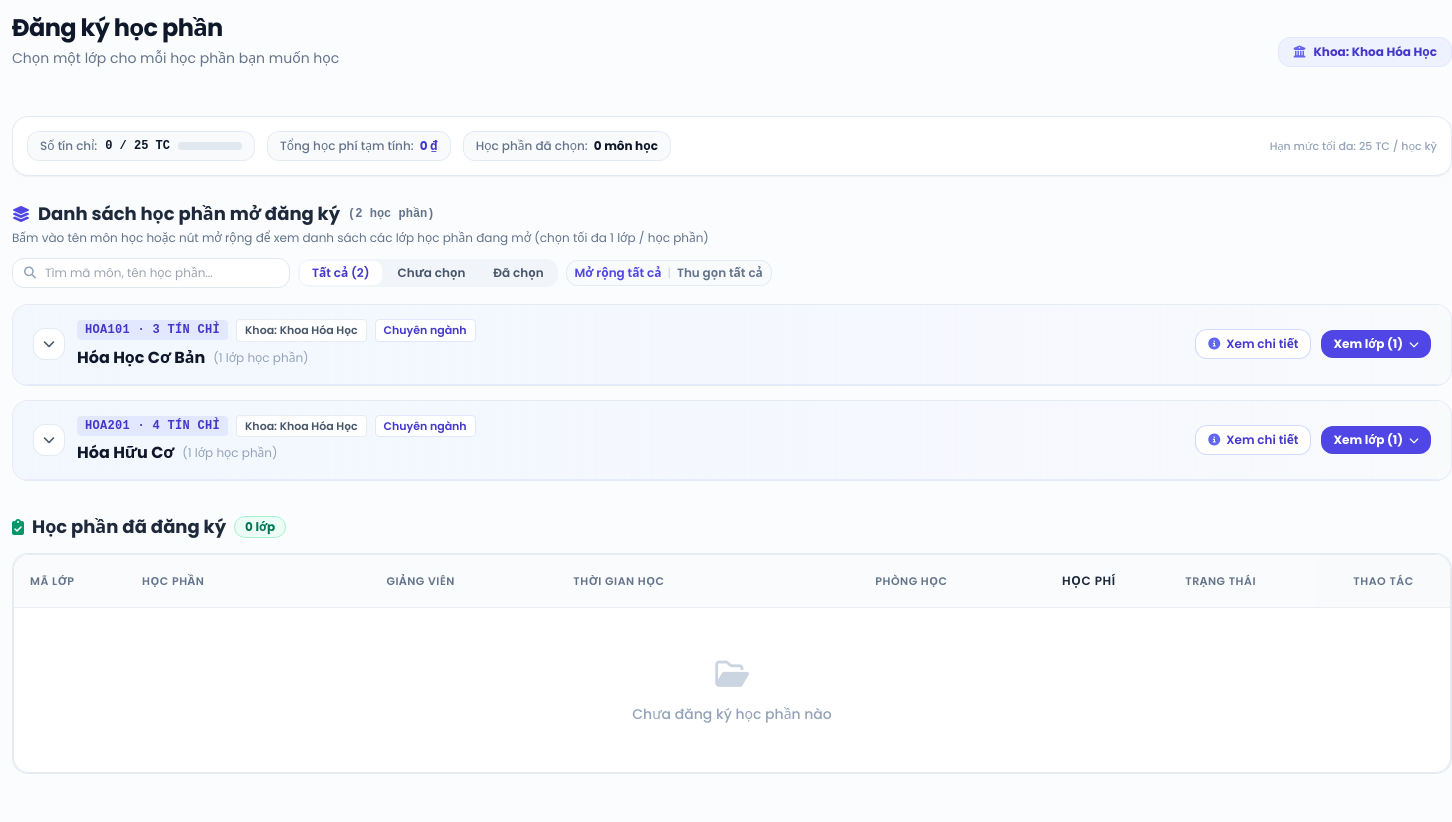
Scenario: StudentCourseRegistration Exclusive Class Selection & Credit Limit Validation › supports searching and filtering courses in open classes list
The image size is (1452, 822).
Check: the text "Hóa Học Cơ Bản" is shown, box [77,346,205,370]
Check: the text "Hóa Hữu Cơ" is shown, box [77,441,174,465]
// Type "Hữu Cơ" into search input
Type "Hữu Cơ" into the field with placeholder "Tìm mã môn, tên học phần...". click: (151, 273)
box: [12,258,290,288]
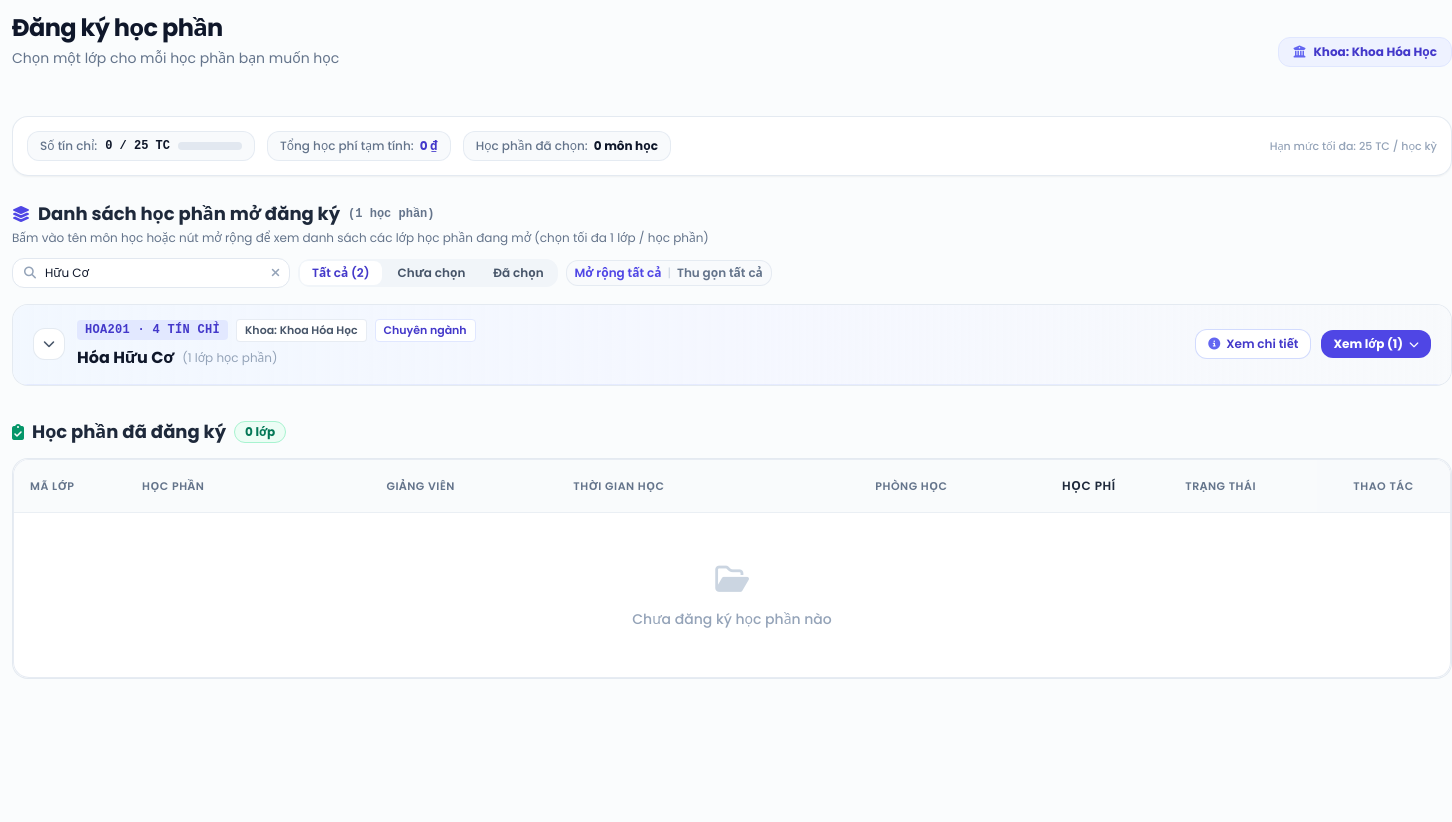
Check: the text "Hóa Hữu Cơ" is shown, box [77,346,174,370]
Check: the button "Hóa Học Cơ Bản" is gone
